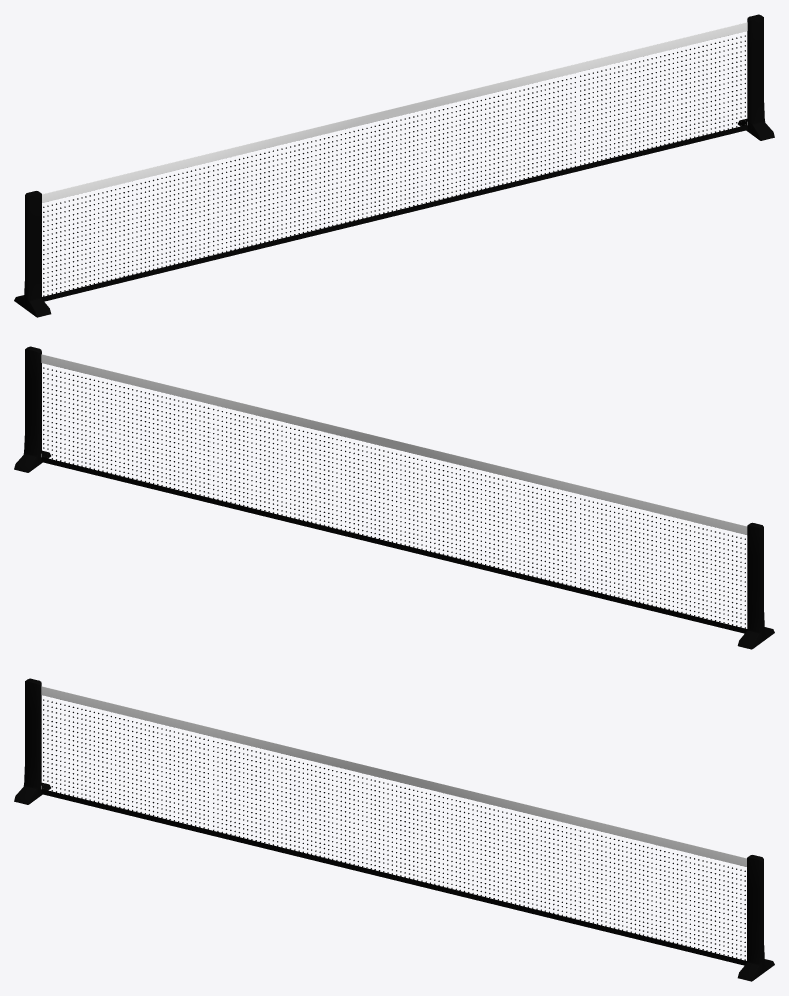
The model's file is pickleball court_screen.fbx.
3 views of the same model, one above another, from view 1: azimuth 30°, elevation 25°; view 2: azimuth 150°, elevation 25°; view 3: azimuth 330°, elevation 25° (orthographic).
Visible parts, largest first — view 1: pickleball court_screen; view 2: pickleball court_screen; view 3: pickleball court_screen.
Part boxes in pixels (bbox=[...]): pickleball court_screen: bbox=[14, 14, 774, 317]; pickleball court_screen: bbox=[14, 346, 774, 649]; pickleball court_screen: bbox=[14, 678, 774, 981].
Size of the model in its own units: 256 by 37.73 by 14.02.
Materials: 1 (1 with a texture image).
